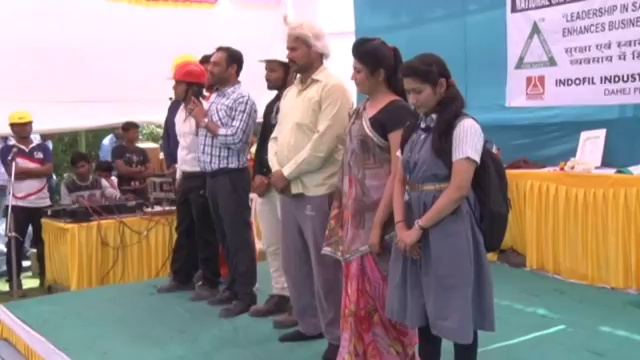helmet: (168, 62, 204, 85), (256, 43, 290, 64), (7, 110, 33, 126)
helmet_off: (395, 47, 457, 126), (347, 35, 401, 99), (279, 24, 325, 75), (203, 46, 244, 96), (240, 63, 269, 106), (65, 149, 91, 183), (93, 158, 114, 184), (114, 123, 136, 147)
helmet_on: (256, 42, 291, 90), (167, 63, 205, 104), (7, 110, 34, 143)
person: (382, 32, 507, 360), (266, 15, 353, 360), (331, 34, 412, 360), (186, 46, 258, 316), (152, 60, 225, 304), (250, 42, 295, 333), (0, 108, 55, 287), (59, 150, 124, 213), (111, 122, 150, 203)
